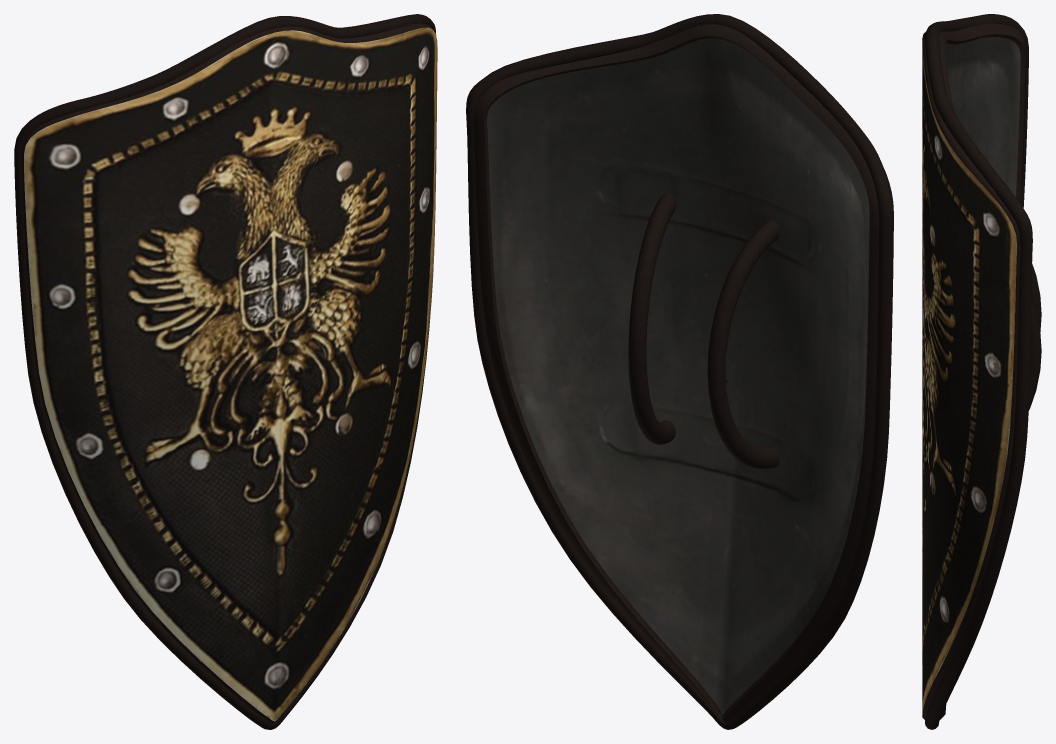
Rendered from Eagles Medieval Battle Shield.fbx.
The picture shows the model from 3 angles, left to right: view 1: azimuth 30°, elevation 25°; view 2: azimuth 150°, elevation 25°; view 3: azimuth 270°, elevation 25°; orthographic projection. The views are drawn at different scales.
Visible parts, largest first — view 1: Eagles Medieval Battle Shield; view 2: Eagles Medieval Battle Shield; view 3: Eagles Medieval Battle Shield.
Part boxes in pixels (x1,y1,x2,y2): Eagles Medieval Battle Shield: [14, 14, 437, 729]; Eagles Medieval Battle Shield: [466, 14, 893, 729]; Eagles Medieval Battle Shield: [922, 14, 1041, 729].
Bounding box in the file's own units: 78.42 × 126 × 19.6.
1 material, 1 textured.
